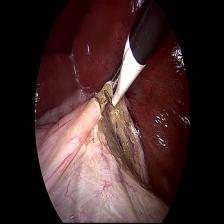Grasper: (108, 60, 124, 94)
Hook: (99, 42, 146, 116)
